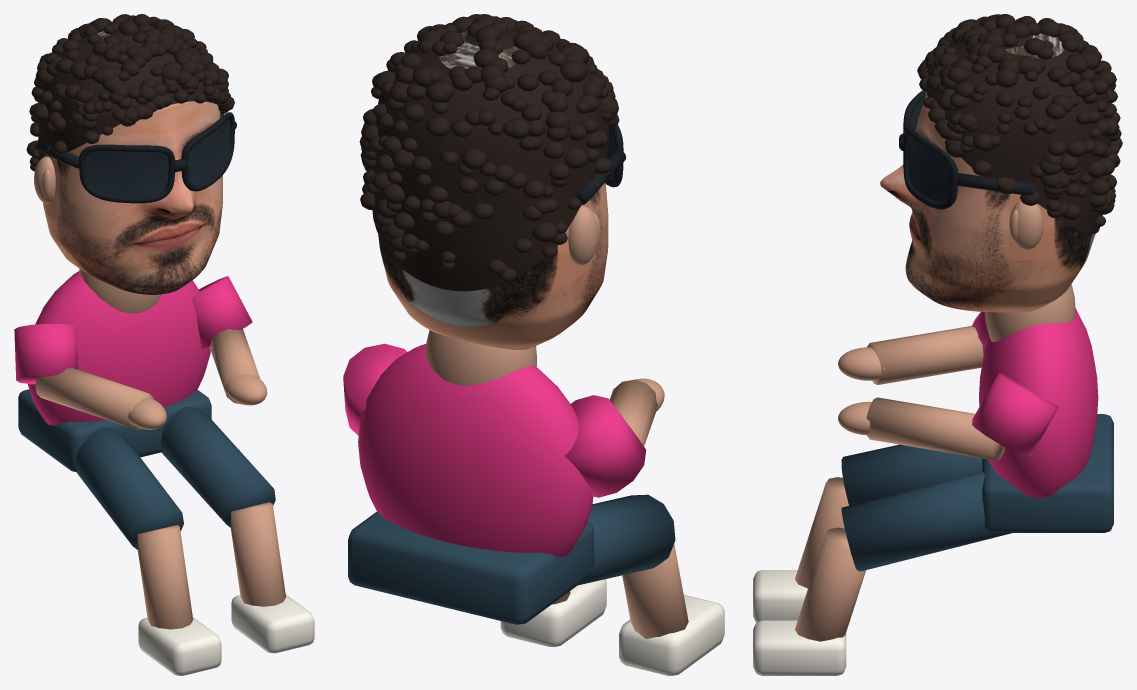
File: driver.glb
3 views of the same model, side by side, from view 1: azimuth 30°, elevation 25°; view 2: azimuth 150°, elevation 25°; view 3: azimuth 270°, elevation 25° (orthographic). The views are drawn at different scales.
Parts seen in each view (by area): view 1: Face, Curls, Bermuda azul Mesh, Remera, Piel cálida Mesh, Marfil Mesh, Cristal oscuro Mesh, Piel cálida Mesh.002, Glasses, Manga, Piel cálida Mesh.003, Manga.001 (+1 smaller); view 2: Curls, Remera, Bermuda azul Mesh, Face, Marfil Mesh, Piel cálida Mesh, Manga, Manga.001, Piel cálida Mesh.002, Piel cálida Mesh.001, Glasses; view 3: Curls, Bermuda azul Mesh, Face, Remera, Piel cálida Mesh, Marfil Mesh, Piel cálida Mesh.003, Piel cálida Mesh.002, Manga.001, Glasses, Cristal oscuro Mesh, Piel cálida Mesh.001.
Boxes of the visible parts, box(x1,y1,x2,y2) form: Face: box(43, 28, 222, 294); Curls: box(26, 14, 234, 171); Bermuda azul Mesh: box(18, 389, 275, 549); Remera: box(28, 271, 210, 425); Piel cálida Mesh: box(79, 268, 285, 629); Marfil Mesh: box(138, 594, 314, 675); Cristal oscuro Mesh: box(85, 119, 229, 196); Piel cálida Mesh.002: box(35, 368, 166, 429); Glasses: box(36, 112, 236, 203); Manga: box(14, 323, 77, 384); Piel cálida Mesh.003: box(209, 329, 267, 405); Manga.001: box(192, 276, 252, 349); Curls: box(359, 14, 619, 291); Remera: box(358, 344, 593, 557); Bermuda azul Mesh: box(348, 494, 675, 624); Face: box(378, 31, 608, 349); Marfil Mesh: box(500, 579, 724, 675); Piel cálida Mesh: box(425, 330, 688, 638); Manga: box(565, 395, 646, 497); Manga.001: box(343, 343, 407, 435); Piel cálida Mesh.002: box(609, 378, 664, 445); Piel cálida Mesh.001: box(568, 205, 600, 265); Glasses: box(576, 124, 625, 204); Curls: box(917, 14, 1122, 234); Bermuda azul Mesh: box(841, 414, 1113, 571); Face: box(880, 33, 1095, 312); Remera: box(979, 308, 1098, 498); Piel cálida Mesh: box(795, 284, 1075, 641); Marfil Mesh: box(753, 570, 846, 675); Piel cálida Mesh.003: box(838, 397, 1005, 460); Piel cálida Mesh.002: box(838, 326, 983, 384); Manga.001: box(972, 373, 1058, 456); Glasses: box(899, 90, 1034, 209); Cristal oscuro Mesh: box(908, 97, 950, 202); Piel cálida Mesh.001: box(1009, 200, 1043, 250).
Size of the model in its own units: 1.24 by 2.85 by 1.55.
8 materials, 1 textured.
